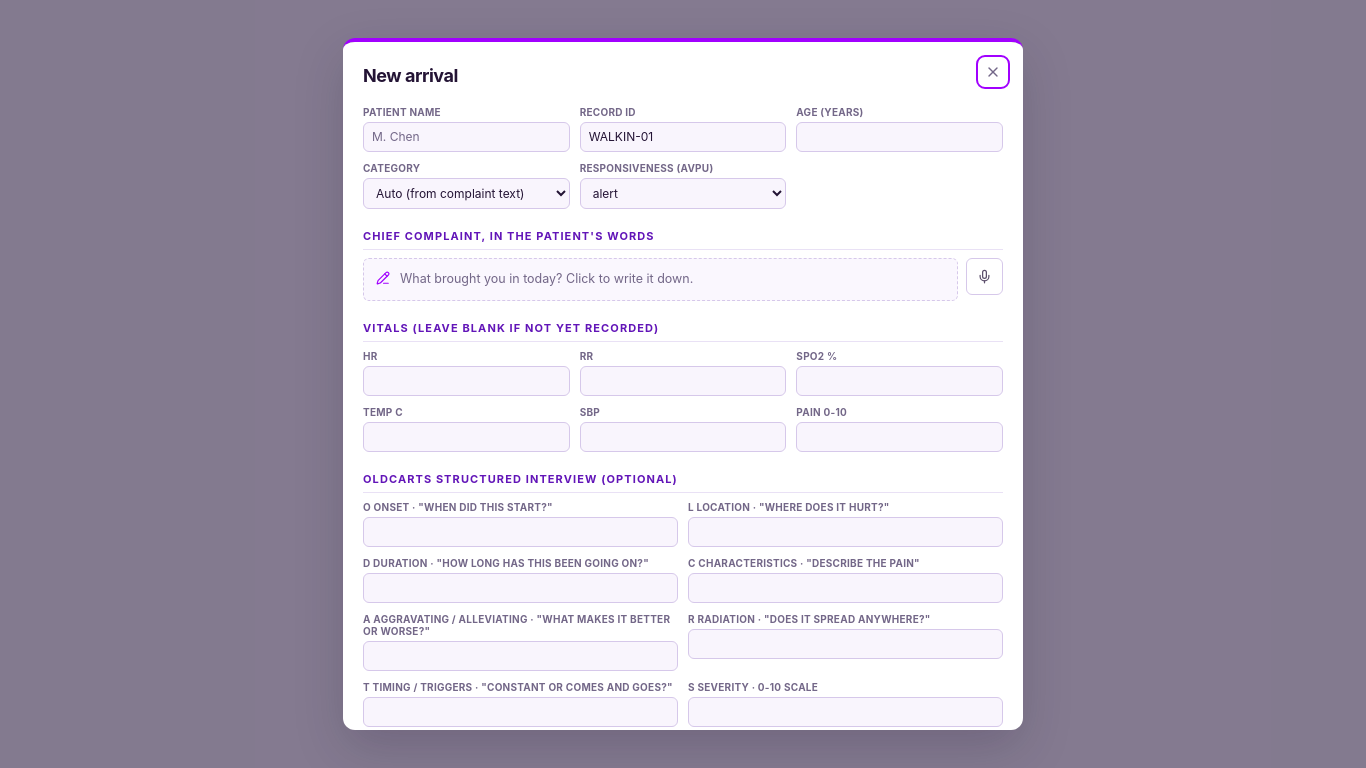
it: the dictation control › says plainly that it is not recording yet
Click the button named "dictate the complaint" at (984, 277), box [966,258,1003,295]
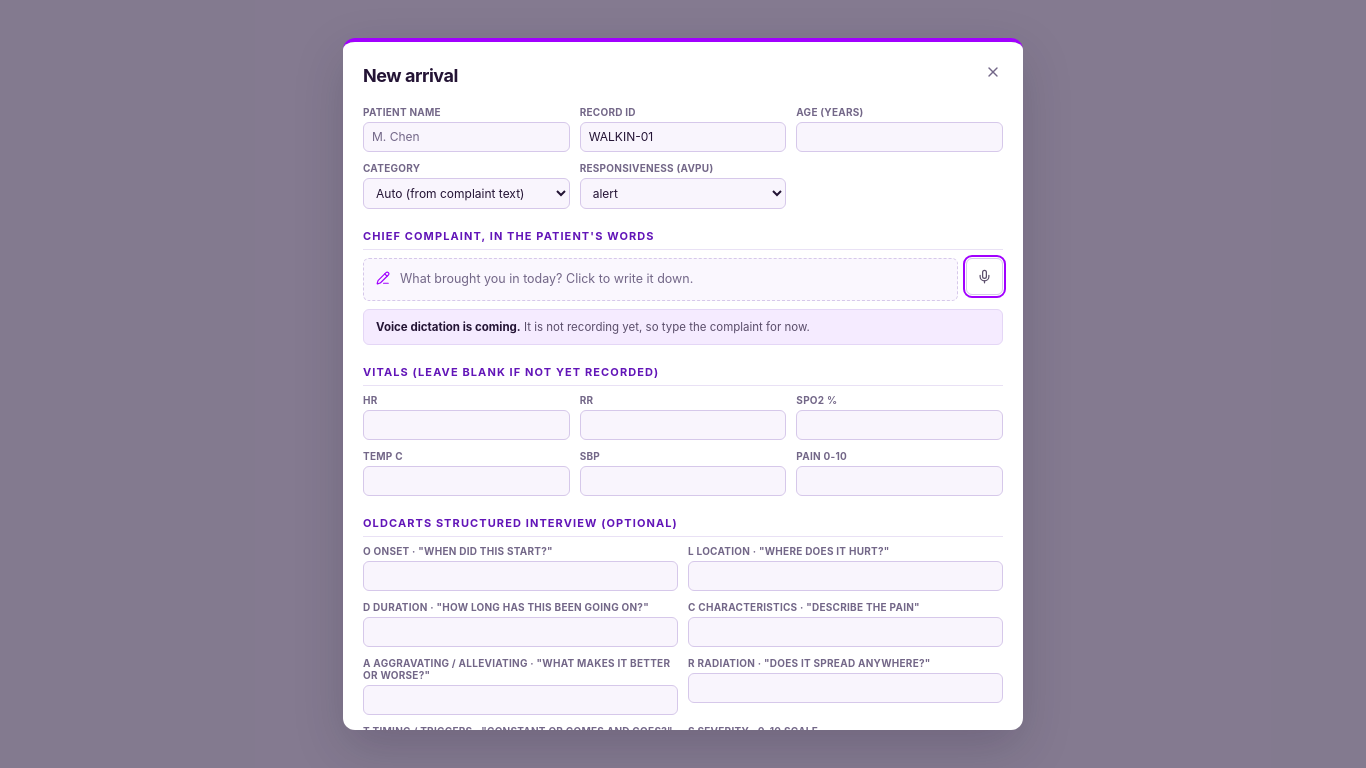
Result: the message shows "coming" at [376,320,521,334]
Result: the message shows "not recording yet" at [521,320,810,334]
